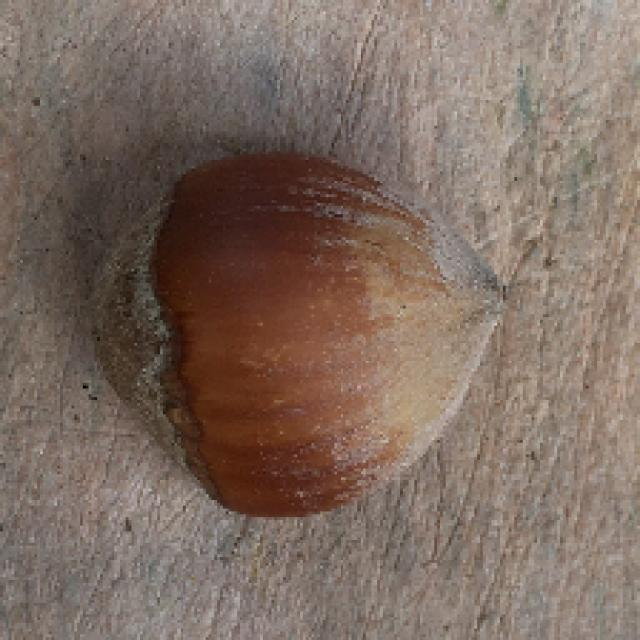qualityHazelnut: (92, 152, 512, 522)
